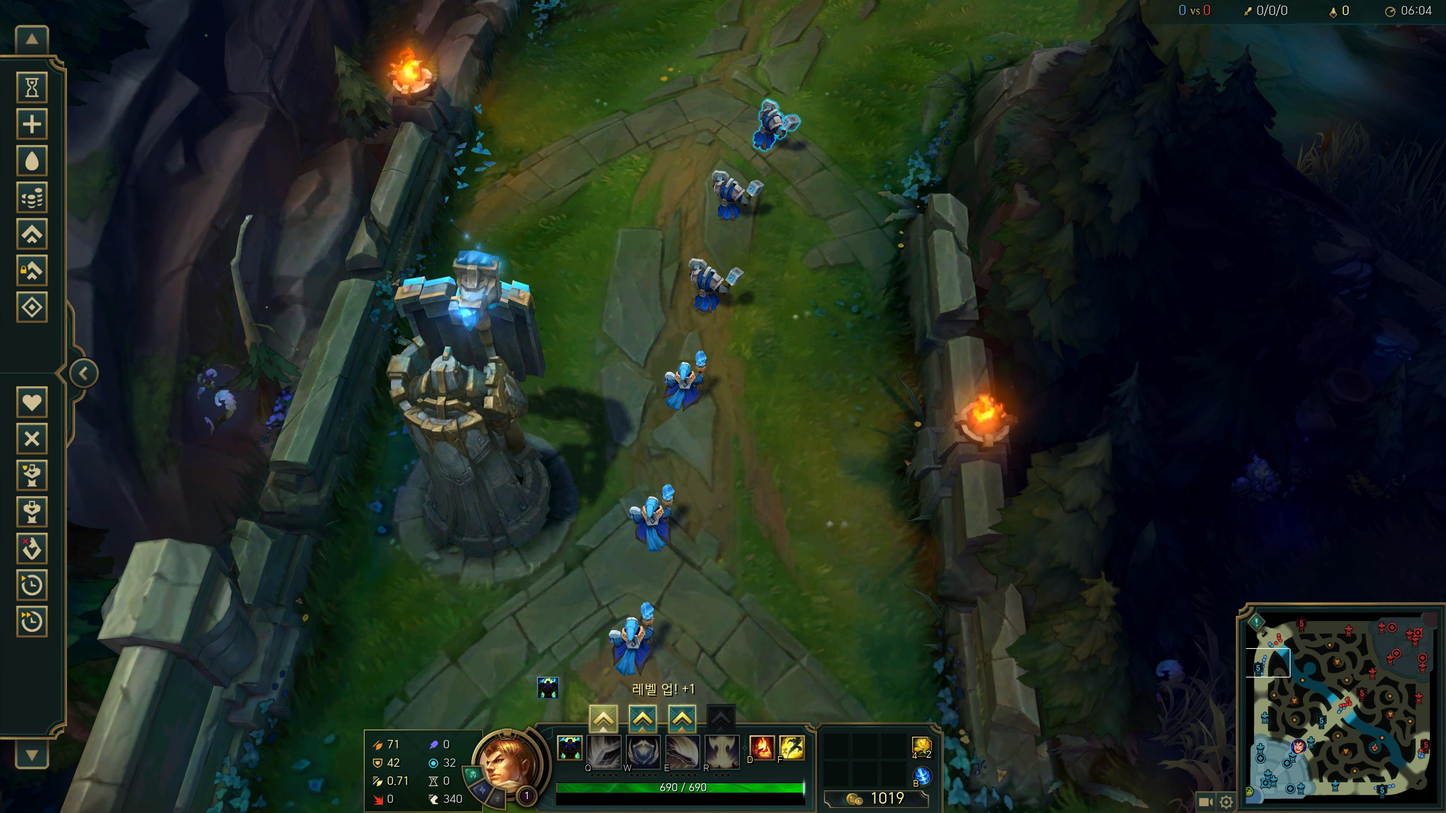ally-caster-minion: (608, 601, 654, 675), (628, 483, 674, 551), (665, 349, 707, 410)
ally-melee-minion: (689, 257, 744, 310), (752, 96, 802, 151), (711, 169, 764, 218)
ally-tower: (386, 249, 576, 582)
